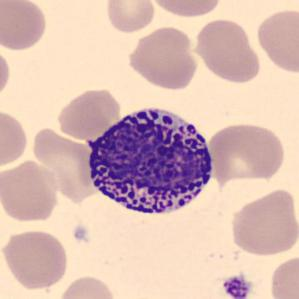Basophil: (82, 99, 220, 224)
Platelets: (220, 272, 252, 299), (69, 220, 93, 246)
RBC: (32, 126, 99, 203), (227, 186, 298, 258), (205, 120, 286, 183), (125, 24, 200, 91), (192, 16, 263, 85), (0, 227, 70, 292), (0, 157, 61, 224), (54, 86, 123, 140), (254, 5, 298, 75), (0, 0, 49, 52), (0, 106, 30, 170), (103, 0, 157, 35), (56, 273, 119, 299), (146, 0, 225, 19), (267, 252, 298, 299), (0, 44, 12, 102)
